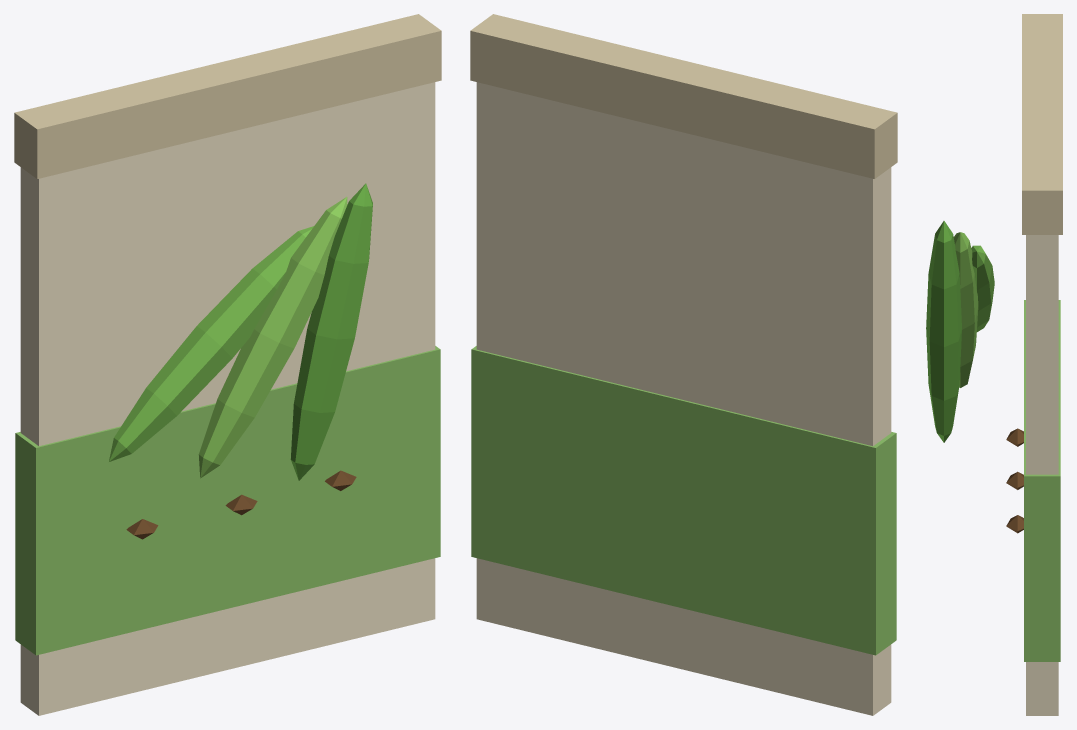
The model's file is uprawa-nasiona-fasolka.glb.
The picture shows the model from 3 angles, left to right: view 1: azimuth 30°, elevation 25°; view 2: azimuth 150°, elevation 25°; view 3: azimuth 270°, elevation 25°; orthographic projection. The views are drawn at different scales.
Parts seen in each view (by area): view 1: uprawa-nasiona-fasolka-0, uprawa-nasiona-fasolka-1, uprawa-nasiona-fasolka-2, uprawa-nasiona-fasolka-5, uprawa-nasiona-fasolka-4, uprawa-nasiona-fasolka-3; view 2: uprawa-nasiona-fasolka-0, uprawa-nasiona-fasolka-1, uprawa-nasiona-fasolka-2; view 3: uprawa-nasiona-fasolka-0, uprawa-nasiona-fasolka-2, uprawa-nasiona-fasolka-1, uprawa-nasiona-fasolka-5, uprawa-nasiona-fasolka-4, uprawa-nasiona-fasolka-3.
Part boxes in pixels (x1,y1,x2,y2): uprawa-nasiona-fasolka-0: [20, 82, 435, 715]; uprawa-nasiona-fasolka-1: [15, 346, 440, 655]; uprawa-nasiona-fasolka-2: [14, 14, 441, 178]; uprawa-nasiona-fasolka-5: [290, 183, 372, 480]; uprawa-nasiona-fasolka-4: [198, 197, 347, 478]; uprawa-nasiona-fasolka-3: [109, 226, 313, 461]; uprawa-nasiona-fasolka-0: [476, 82, 891, 715]; uprawa-nasiona-fasolka-1: [471, 346, 896, 655]; uprawa-nasiona-fasolka-2: [470, 14, 897, 178]; uprawa-nasiona-fasolka-0: [1026, 235, 1058, 715]; uprawa-nasiona-fasolka-2: [1022, 14, 1062, 234]; uprawa-nasiona-fasolka-1: [1024, 300, 1060, 661]; uprawa-nasiona-fasolka-5: [926, 221, 961, 442]; uprawa-nasiona-fasolka-4: [953, 232, 978, 387]; uprawa-nasiona-fasolka-3: [971, 245, 994, 332].
Size of the model in its own units: 1.02 by 1.42 by 0.3339.
